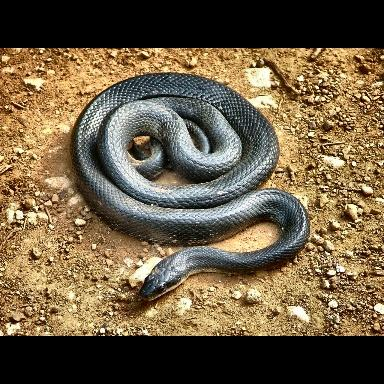snake: (67, 73, 310, 302)
